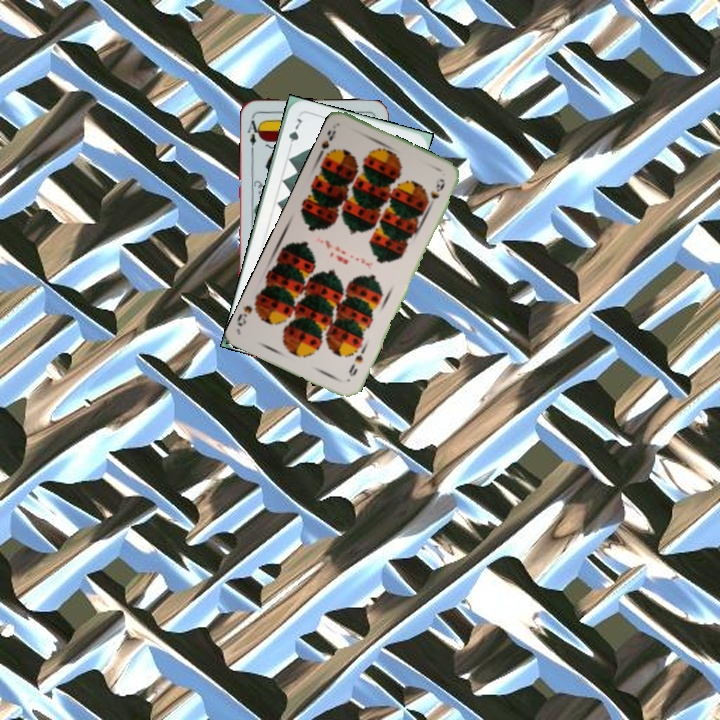EA: (243, 112, 263, 153)
G7: (285, 114, 305, 153)
S9: (314, 126, 339, 162), (344, 343, 367, 379)
